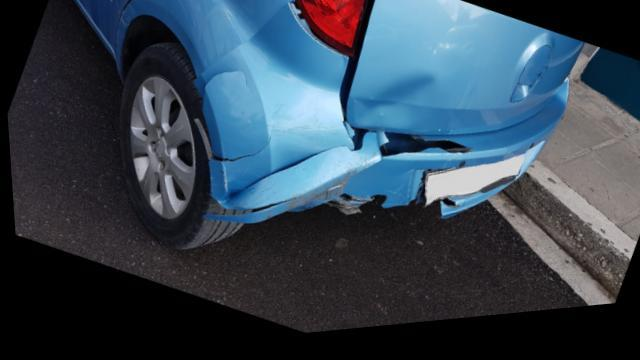crack: (207, 127, 271, 166), (375, 140, 470, 165), (202, 200, 298, 220), (201, 74, 252, 102), (335, 129, 373, 158), (438, 206, 462, 216)
dent: (349, 80, 447, 139)
dislocated part: (332, 0, 382, 129)
